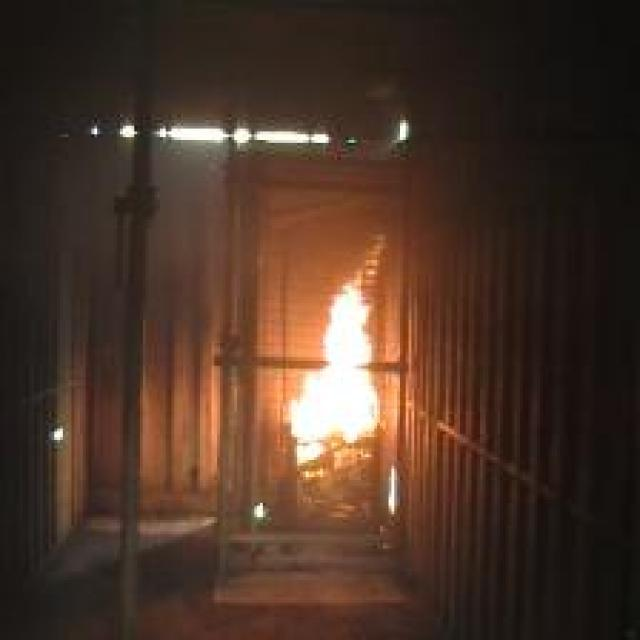Fire: (286, 232, 386, 468)
